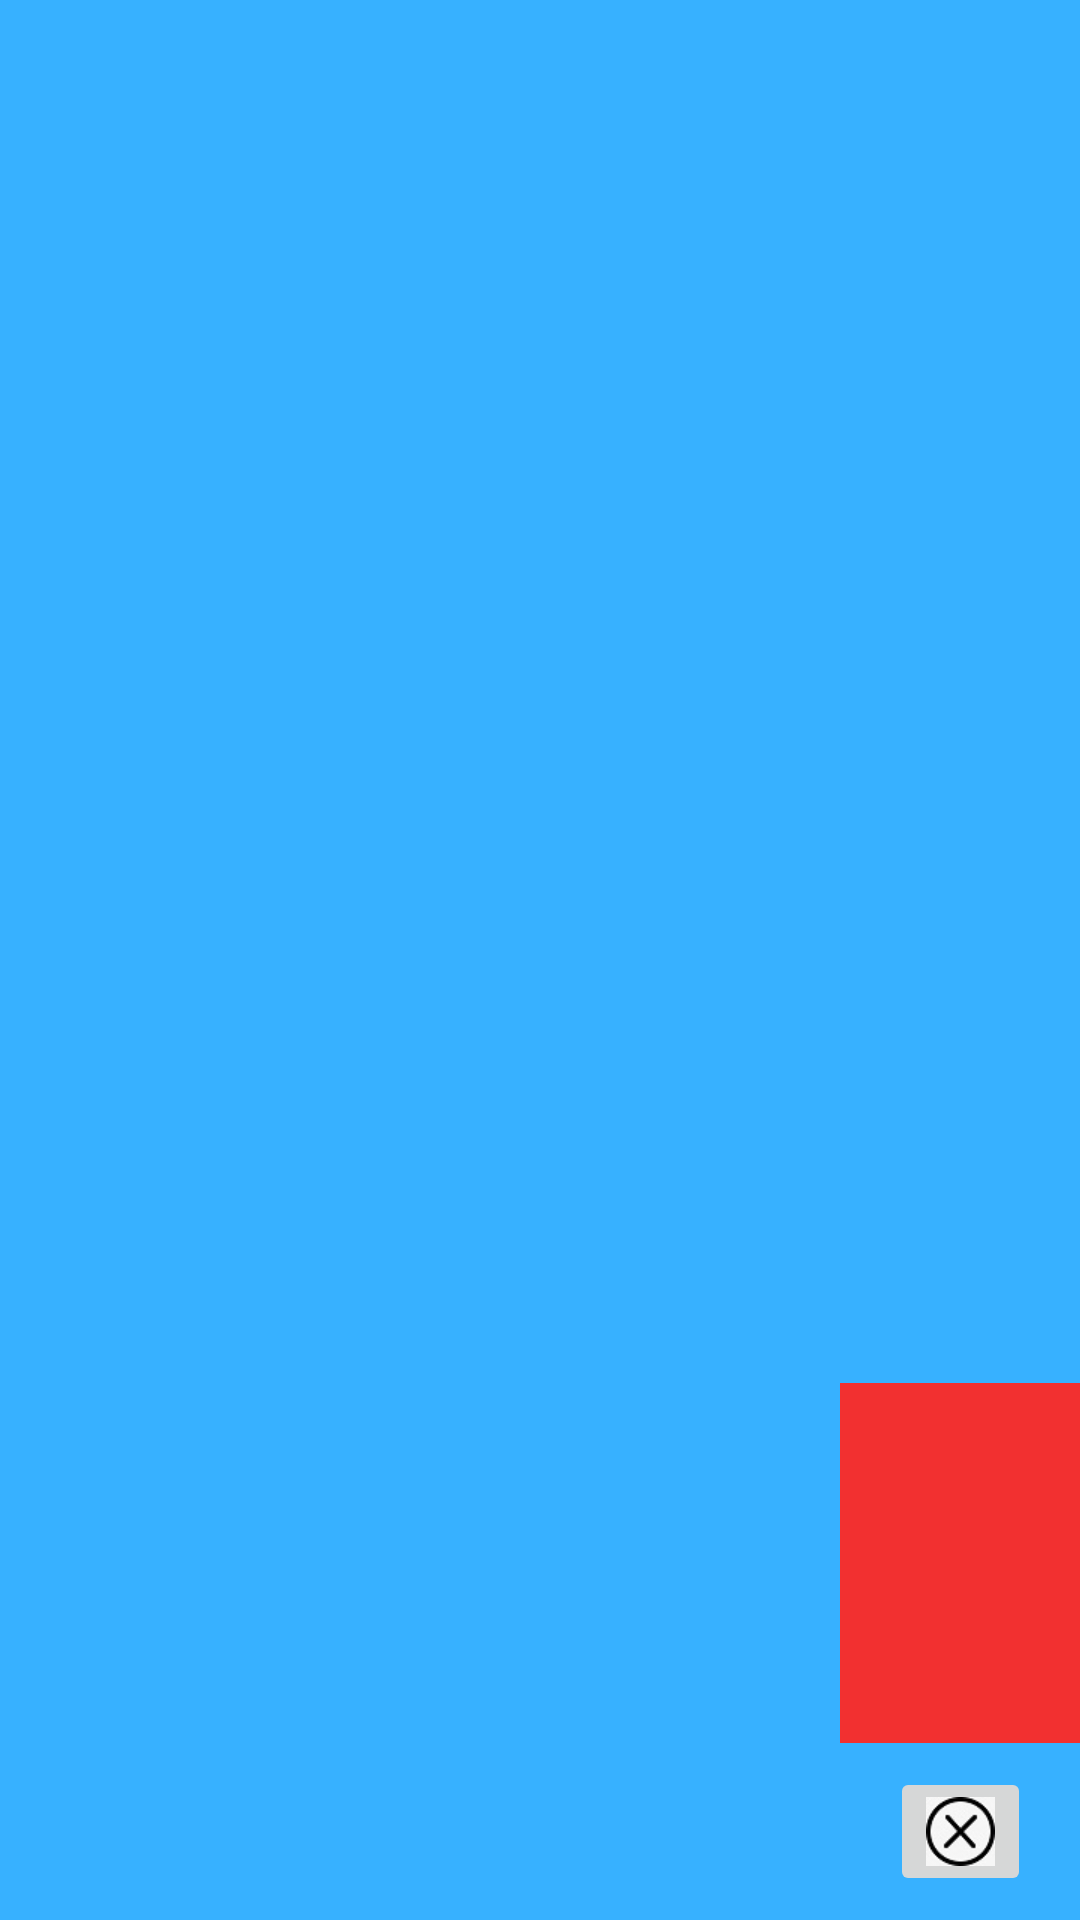

Locate icon controls on the screen. Image size 1080px x 1920px, boxes as (x1, y1, x2, y2).
close: (902, 1785, 1019, 1878)
